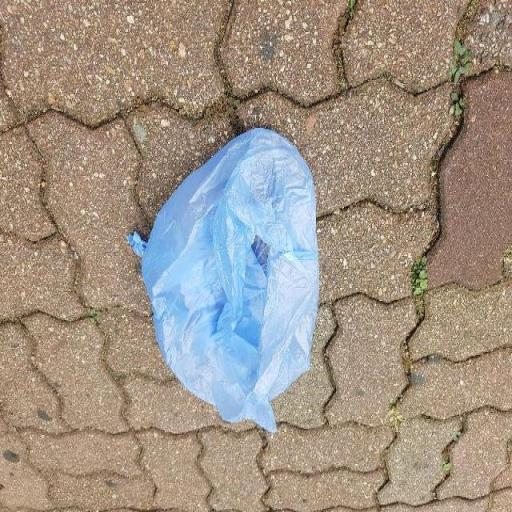plastic-bag: (133, 122, 317, 432)
